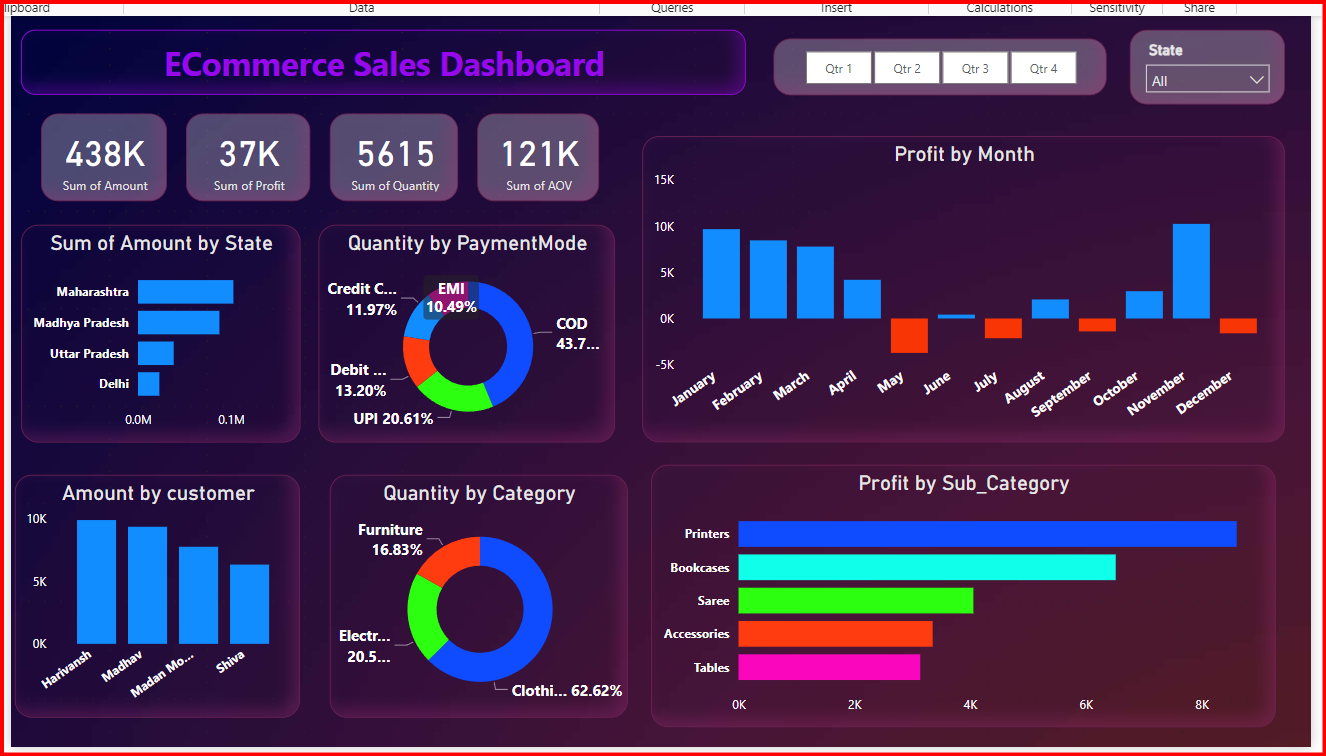

The dashboard page shown, as its layout file describes it:
{"tool":"powerbi","page":{"name":"Page 1","canvas":[1280,720],"ordinal":0},"visuals":[{"type":"textbox","box":[9.7,13.9,713.7,64],"z":0},{"type":"columnChart","title":" Profit by Month","fields":{"Y":["Details.Profit"],"Category":["Orders.Order Date.Variation.Date Hierarchy.Month"]},"box":[621.9,118.3,633,301.9],"z":1000},{"type":"barChart","title":" Profit by Sub_Category","fields":{"Category":["Details.Sub-Category"],"Y":["Details.Profit"]},"box":[630.3,442.4,615,258.8],"z":2000},{"type":"donutChart","title":"Quantity by Category","fields":{"Y":["Details.Quantity"],"Category":["Details.Category"]},"box":[314.4,452.2,293.6,239.3],"z":3000},{"type":"donutChart","title":"Quantity by PaymentMode","fields":{"Y":["Details.Quantity"],"Category":["Details.PaymentMode"]},"box":[303.3,205.9,292.2,214.3],"z":4000},{"type":"columnChart","title":"Amount by customer","fields":{"Category":["Orders.CustomerName"],"Y":["Details.Amount"]},"box":[4.2,452.2,281,239.3],"z":5000},{"type":"barChart","title":"Sum of Amount by State","fields":{"Category":["Orders.State"],"Y":["Details.Amount"]},"box":[9.7,205.9,275.5,214.3],"z":6000},{"type":"card","fields":{"Values":["Details.Amount"]},"box":[29.2,96,123.8,86.3],"z":7000},{"type":"card","fields":{"Values":["Details.Profit"]},"box":[172.5,96,122.4,86.3],"z":8000},{"type":"card","fields":{"Values":["Details.AOV"]},"box":[459.1,96,119.7,86.3],"z":9000},{"type":"card","fields":{"Values":["Details.Quantity"]},"box":[314.4,96,126.6,86.3],"z":10000},{"type":"slicer","fields":{"Values":["Orders.Order Date.Variation.Date Hierarchy.Quarter"]},"box":[751.3,22.3,328.3,55.7],"z":10001},{"type":"slicer","fields":{"Values":["Orders.State"]},"box":[1101.9,13.9,153,73.7],"z":10002}]}

Visuals, with their boxes on the page's 1280x720 design canvas (x1, y1, x2, y2). These are canvas units, not pixel positions in the 1326x756 screenshot, which may show the page scaled, cropped or inside an application window:
textbox: bbox=[10, 14, 723, 78]
" Profit by Month" columnChart: bbox=[622, 118, 1255, 420]
" Profit by Sub_Category" barChart: bbox=[630, 442, 1245, 701]
"Quantity by Category" donutChart: bbox=[314, 452, 608, 692]
"Quantity by PaymentMode" donutChart: bbox=[303, 206, 596, 420]
"Amount by customer" columnChart: bbox=[4, 452, 285, 692]
"Sum of Amount by State" barChart: bbox=[10, 206, 285, 420]
card - Details.Amount: bbox=[29, 96, 153, 182]
card - Details.Profit: bbox=[172, 96, 295, 182]
card - Details.AOV: bbox=[459, 96, 579, 182]
card - Details.Quantity: bbox=[314, 96, 441, 182]
slicer - Orders.Order Date.Variation.Date Hierarchy.Quarter: bbox=[751, 22, 1080, 78]
slicer - Orders.State: bbox=[1102, 14, 1255, 88]
